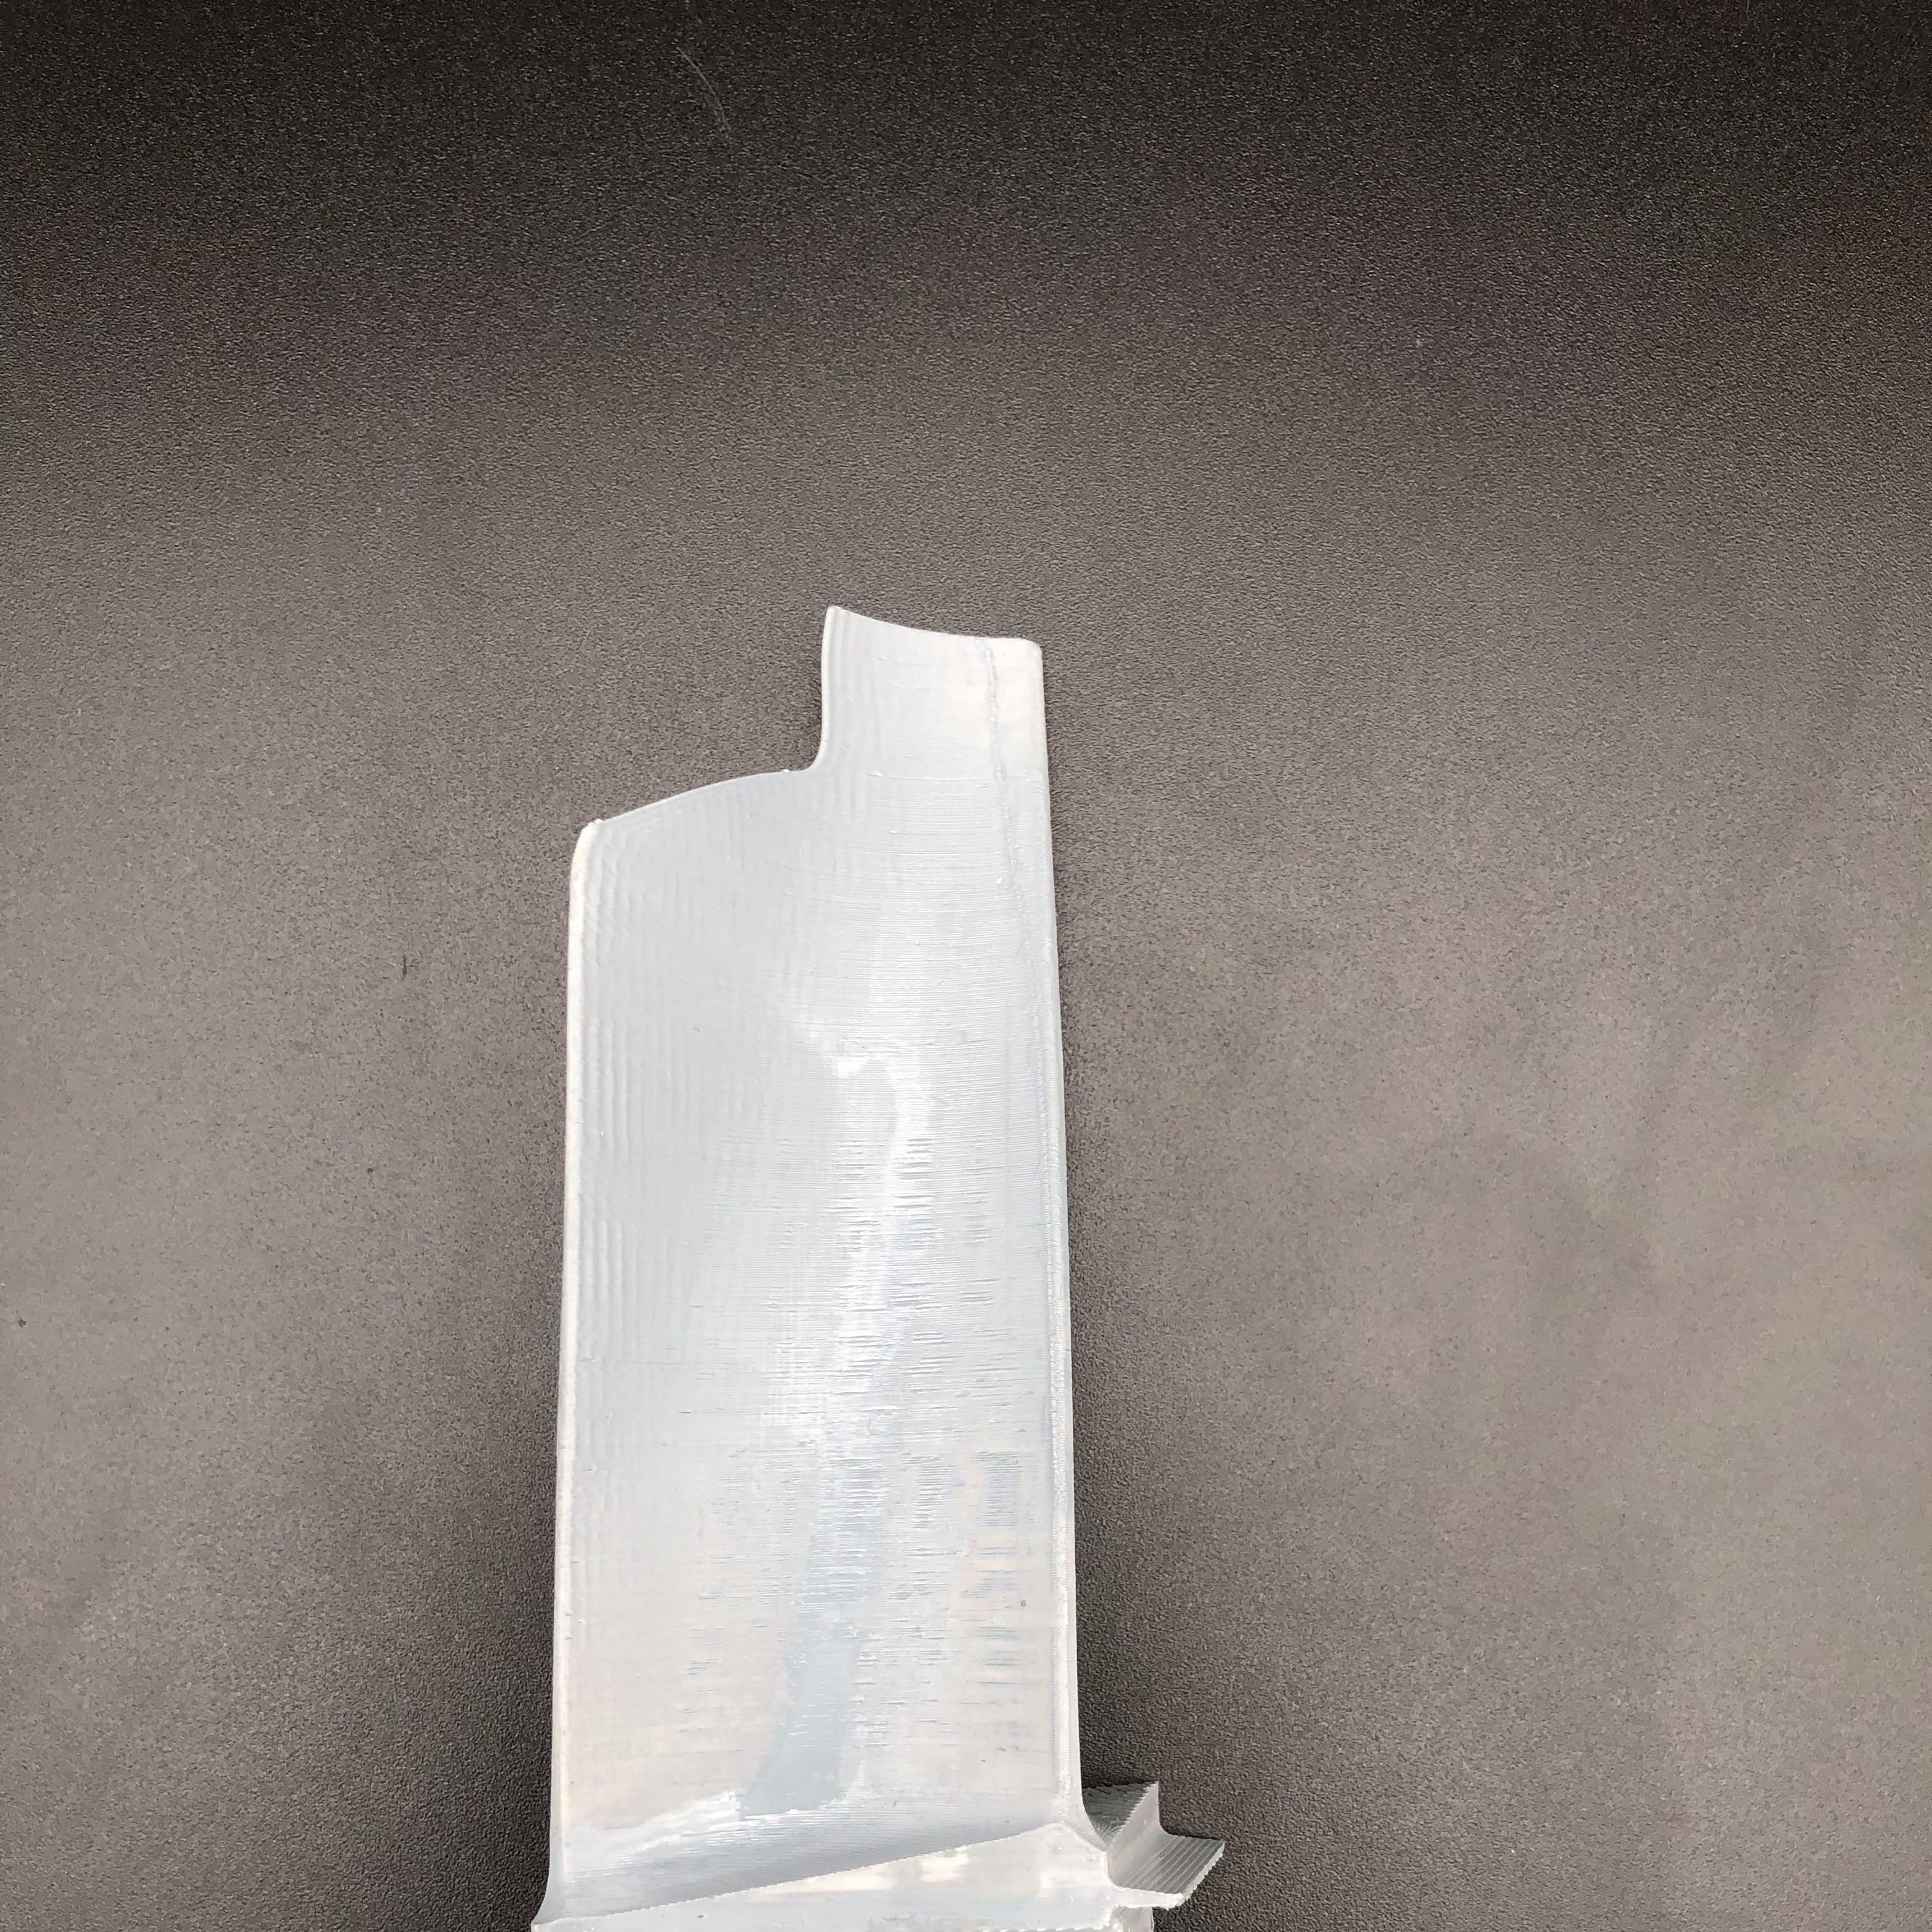fracture: (563, 609, 927, 856)
